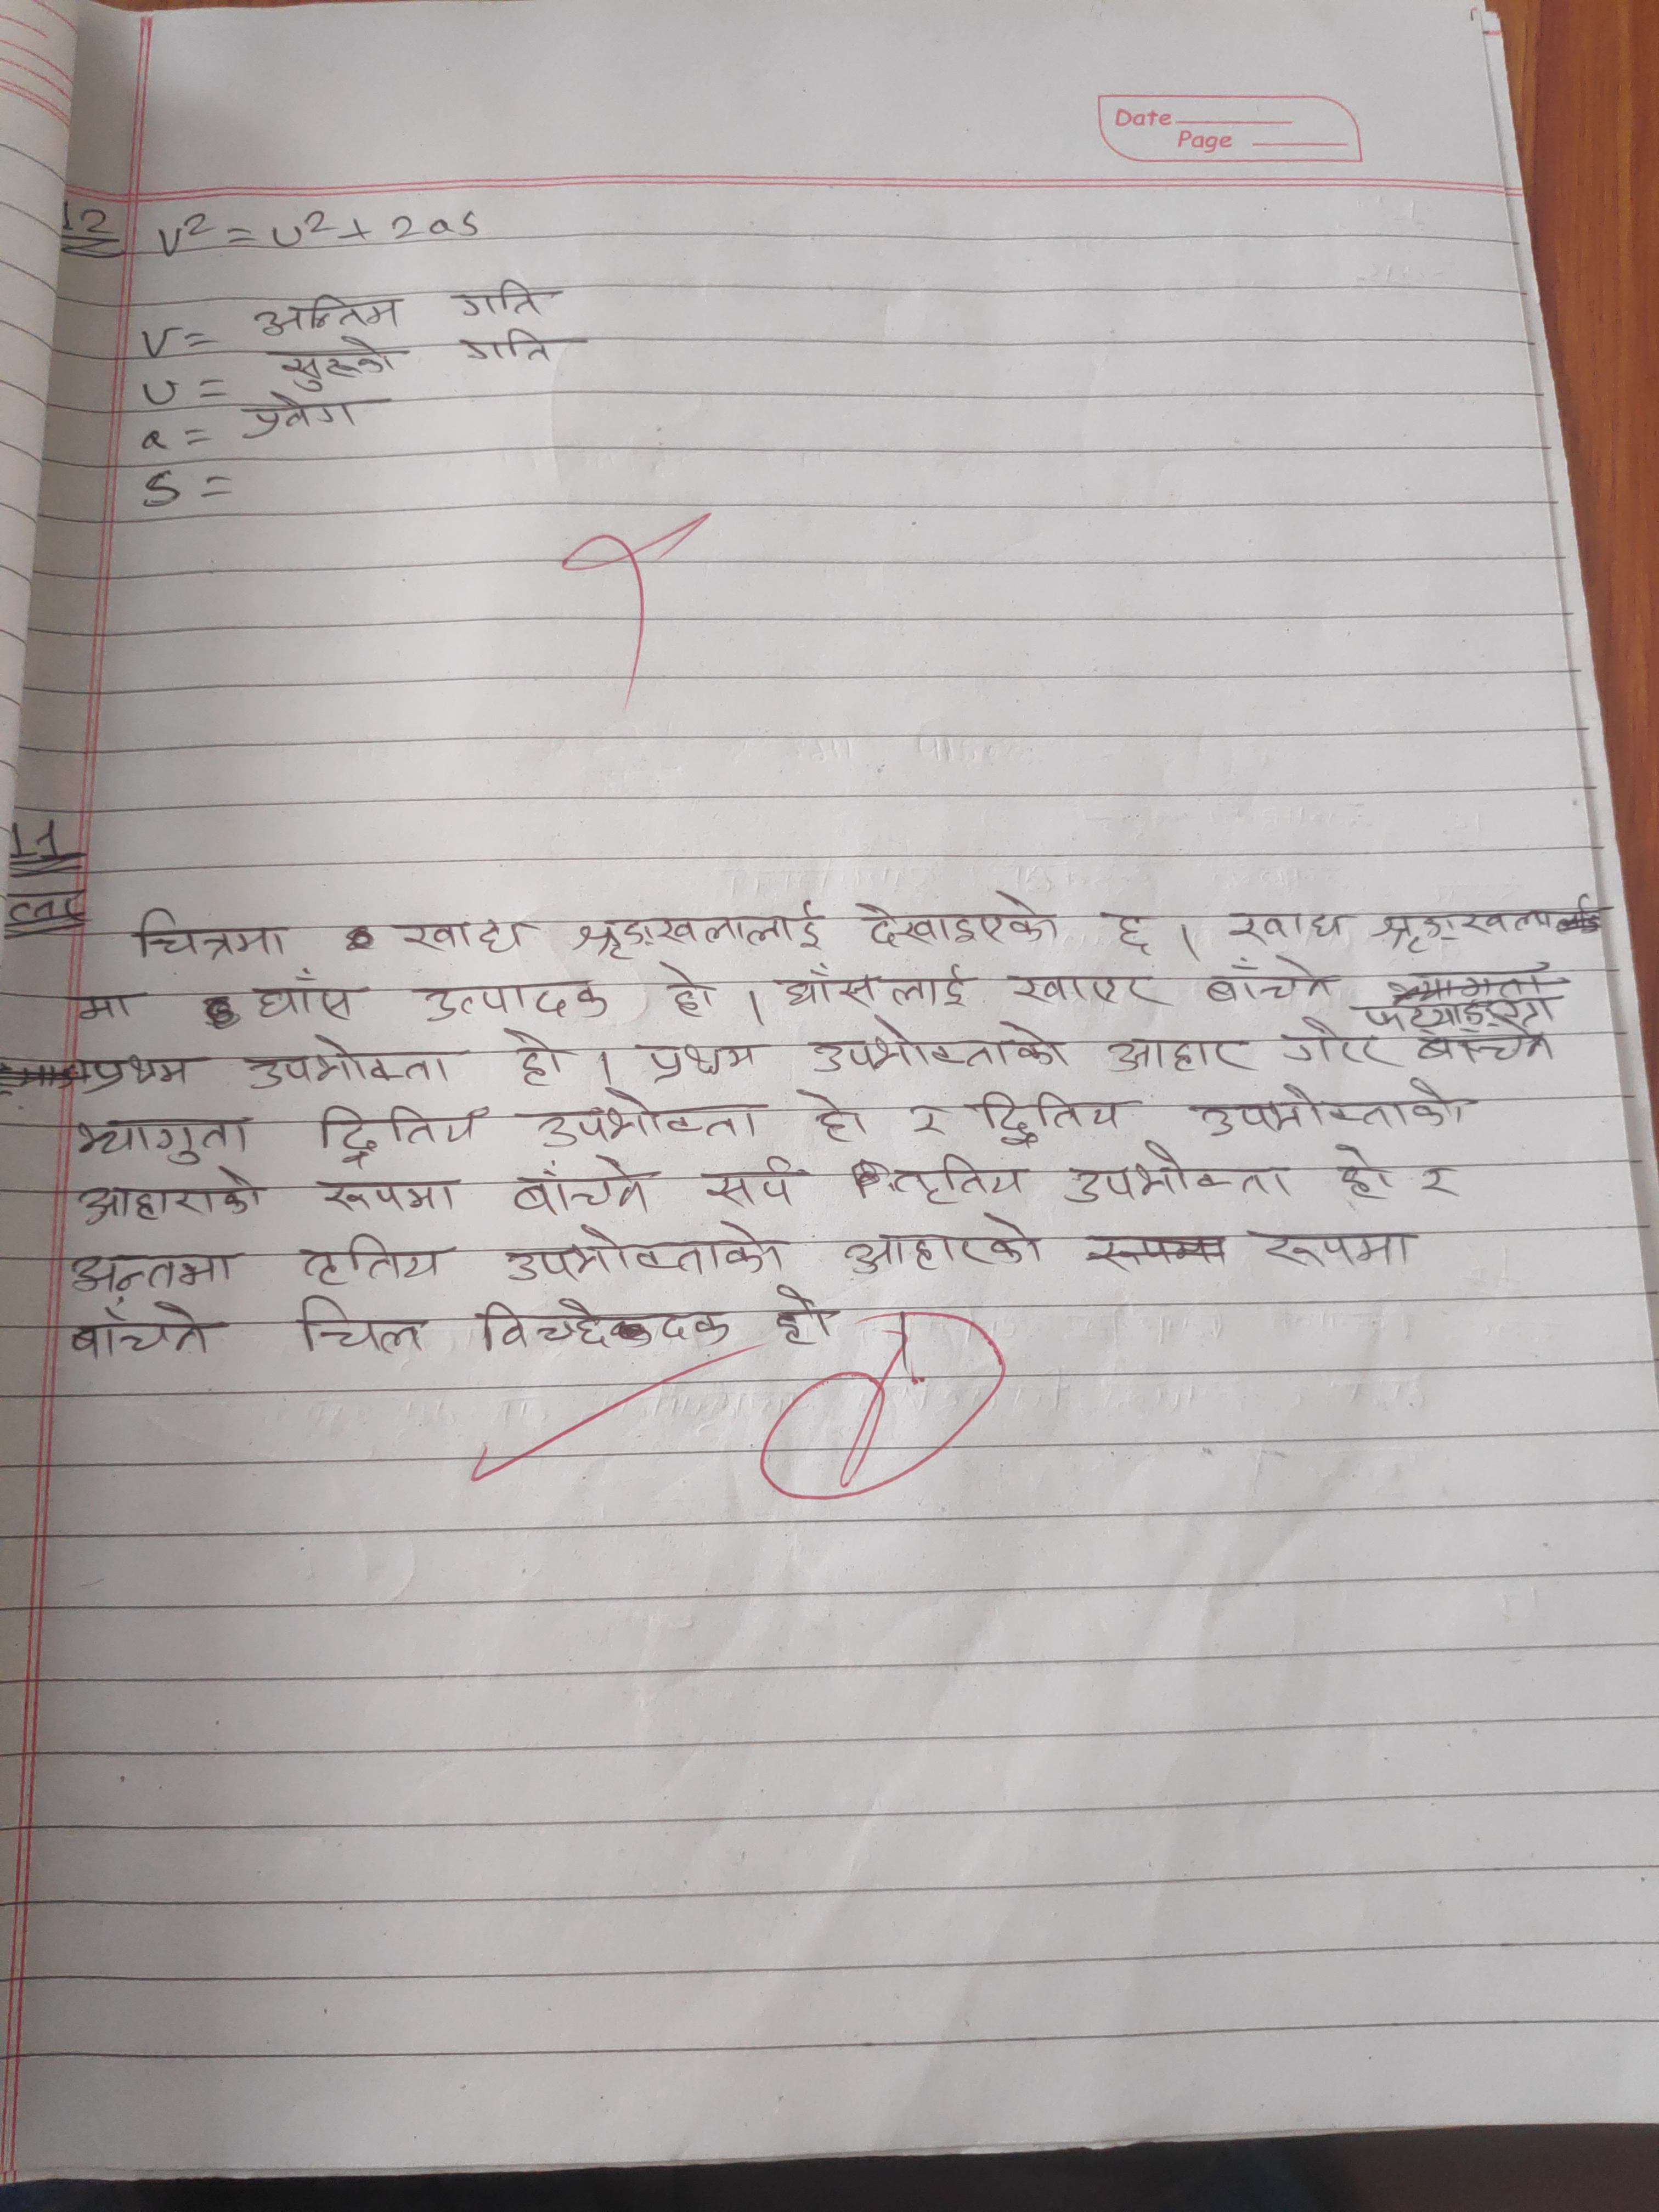text: (1188, 1080, 1478, 1139), (498, 1219, 786, 1278), (805, 1015, 1082, 1076), (1061, 1141, 1297, 1211), (568, 900, 828, 961), (519, 1089, 762, 1151), (244, 1029, 460, 1092), (845, 1214, 1047, 1280), (469, 1298, 734, 1348), (854, 890, 1065, 948), (319, 1097, 486, 1169), (1375, 890, 1563, 953), (75, 1174, 272, 1226), (979, 1083, 1127, 1150), (775, 967, 971, 1015), (75, 1116, 251, 1169), (289, 1292, 427, 1359), (410, 979, 608, 1024), (512, 1157, 657, 1217), (132, 907, 291, 961), (70, 1303, 221, 1359), (1244, 1223, 1413, 1271), (63, 1245, 237, 1292), (295, 1233, 450, 1285), (1002, 961, 1164, 1010), (885, 1153, 1026, 1209), (1194, 949, 1331, 1005), (270, 336, 403, 392), (251, 291, 408, 336), (1364, 1001, 1563, 1035), (314, 1174, 467, 1216), (1101, 1035, 1253, 1076), (701, 1153, 800, 1216), (251, 970, 364, 1024), (1415, 1026, 1558, 1068), (1279, 1014, 1385, 1069), (636, 1038, 767, 1082), (1222, 909, 1363, 949), (240, 397, 368, 441), (394, 914, 528, 954), (82, 1054, 200, 1096), (772, 1285, 842, 1353), (803, 1082, 871, 1150), (505, 1021, 572, 1090), (1324, 1137, 1396, 1202), (652, 961, 725, 1019), (455, 329, 559, 369), (453, 279, 552, 320), (73, 984, 139, 1028), (1417, 1162, 1464, 1207), (1110, 907, 1154, 953), (908, 1103, 950, 1139)
